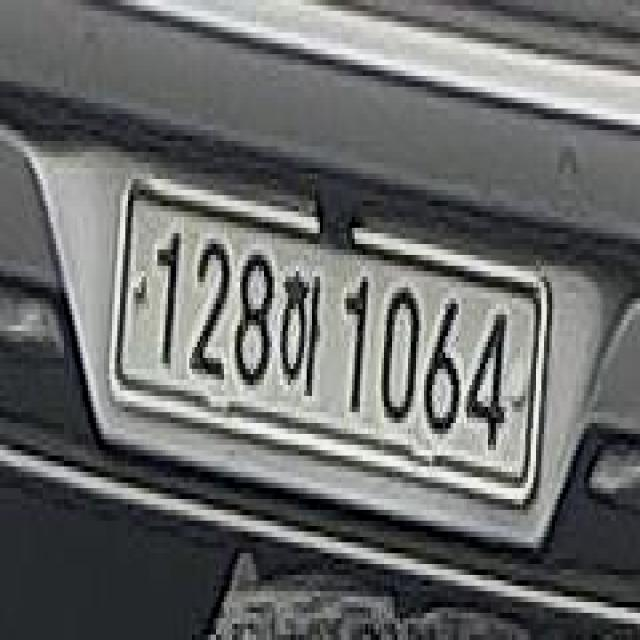illegal_plate: (110, 185, 547, 514)
